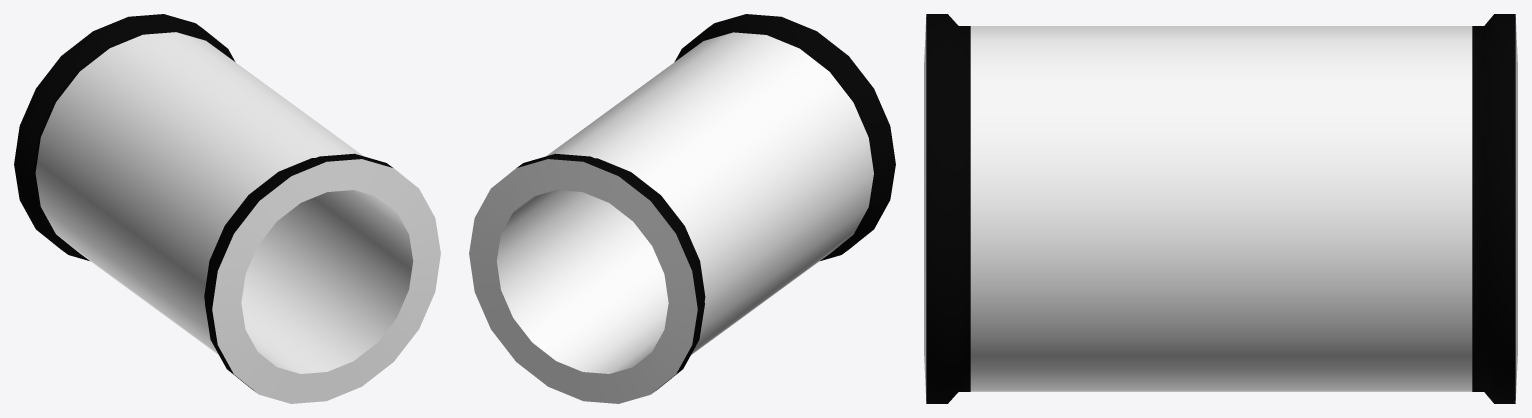
The model's file is Pipe.fbx.
3 views of the same model, side by side, from view 1: azimuth 30°, elevation 25°; view 2: azimuth 150°, elevation 25°; view 3: azimuth 270°, elevation 25° (orthographic). The views are drawn at different scales.
Visible parts, largest first — view 1: pPipe1; view 2: pPipe1; view 3: pPipe1.
Part boxes in pixels (<box>): pPipe1: <box>14,14,440,403</box>; pPipe1: <box>469,14,895,403</box>; pPipe1: <box>924,14,1517,403</box>.
Size of the model in its own units: 2 by 2 by 3.02.
